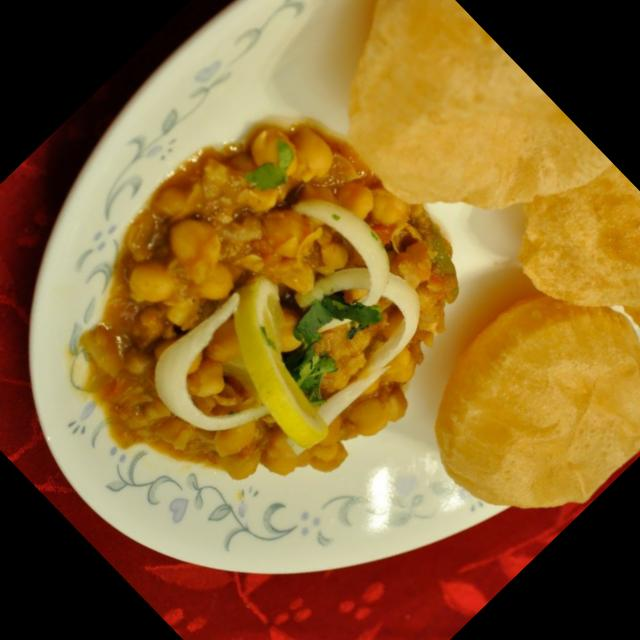Chole: (9, 63, 516, 570)
